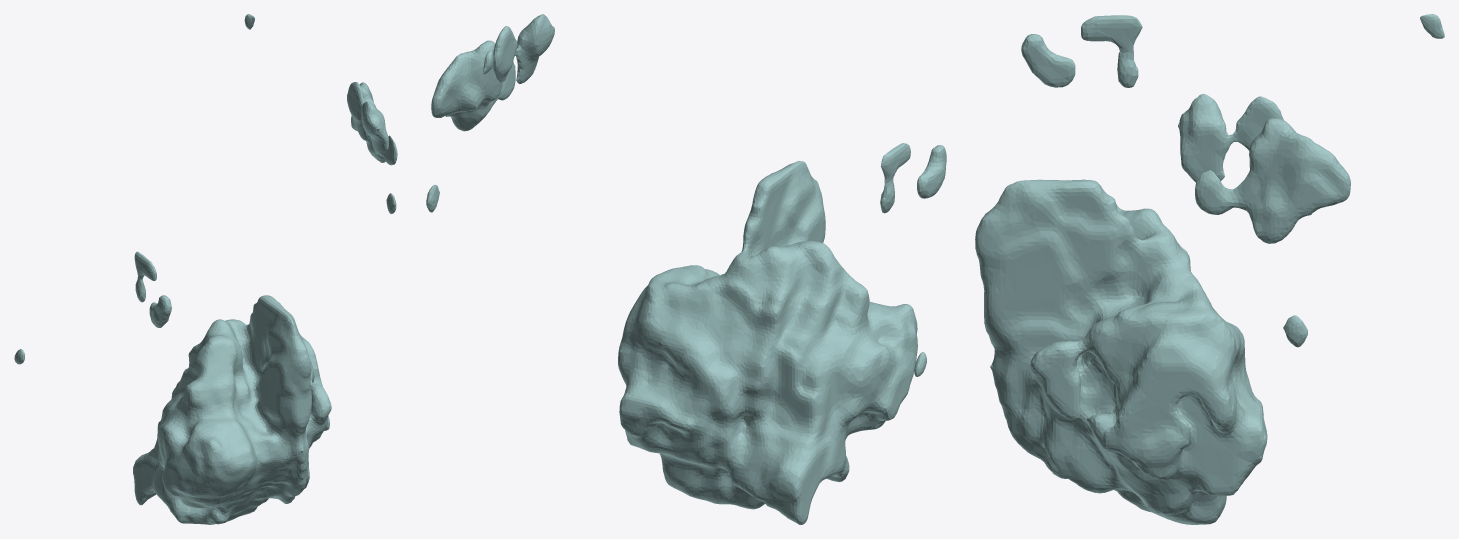
File: tumor_surface.glb
3 renders of one model, left to right at view 1: azimuth 30°, elevation 25°; view 2: azimuth 150°, elevation 25°; view 3: azimuth 270°, elevation 25°, orthographic. The views are drawn at different scales.
Parts seen in each view (by area): view 1: world; view 2: world; view 3: world.
Part boxes in pixels (x1,y1,x2,y2): world: [14, 14, 397, 524]; world: [426, 14, 946, 524]; world: [975, 14, 1444, 524].
Size of the model in its own units: 140 by 140 by 103.
